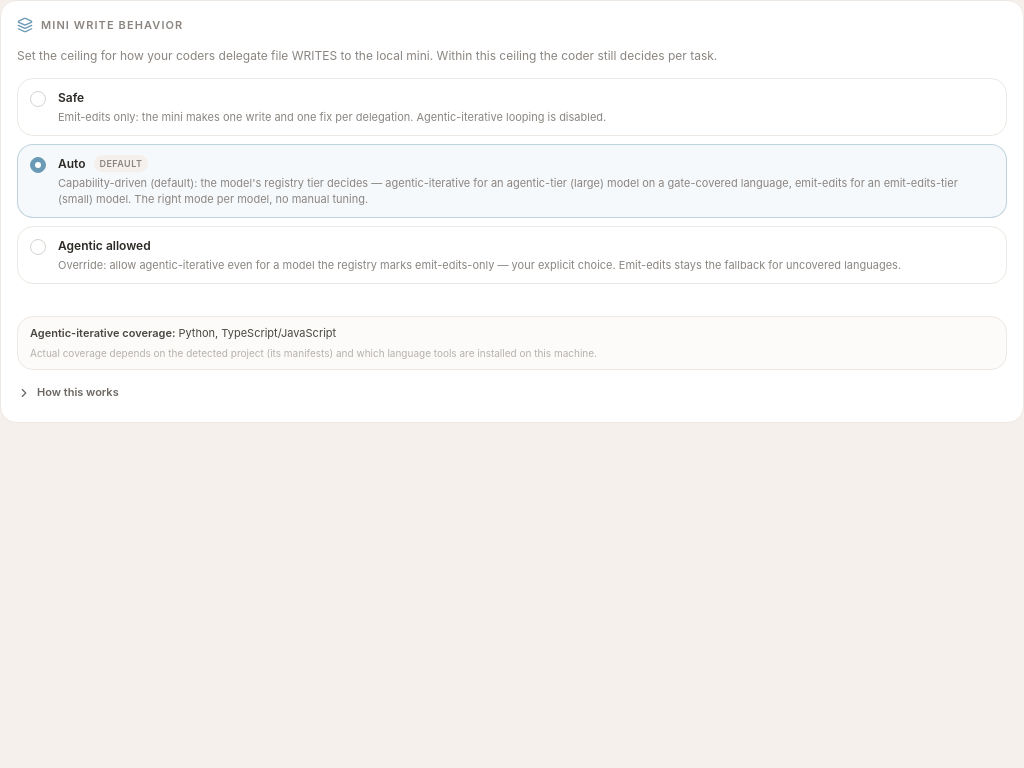
Test: MiniWriteBehaviorCard › toggles the 'How this works' explainer
Step 1. Click the button "How this works" → click(68, 393), box [17,384,119,401]
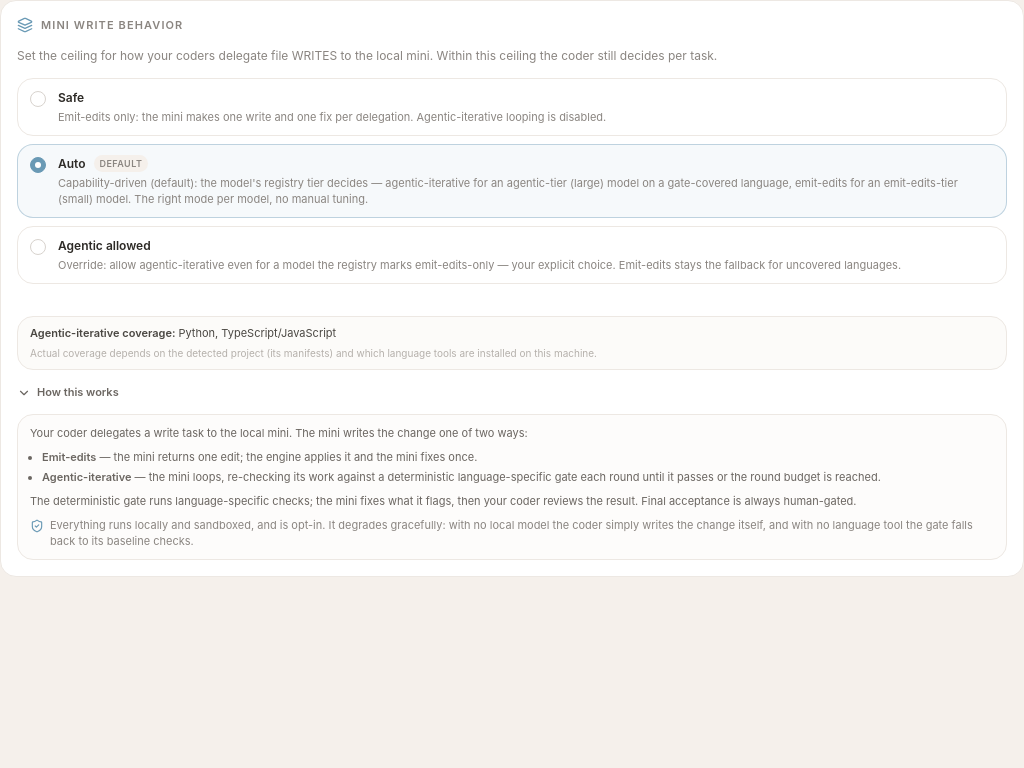
Check: the button "How this works" is expanded, box [17,384,119,401]
Check: the text "deterministic gate" is shown, box [30,494,856,508]
Check: the text "human-gated" is shown, box [30,494,856,508]
